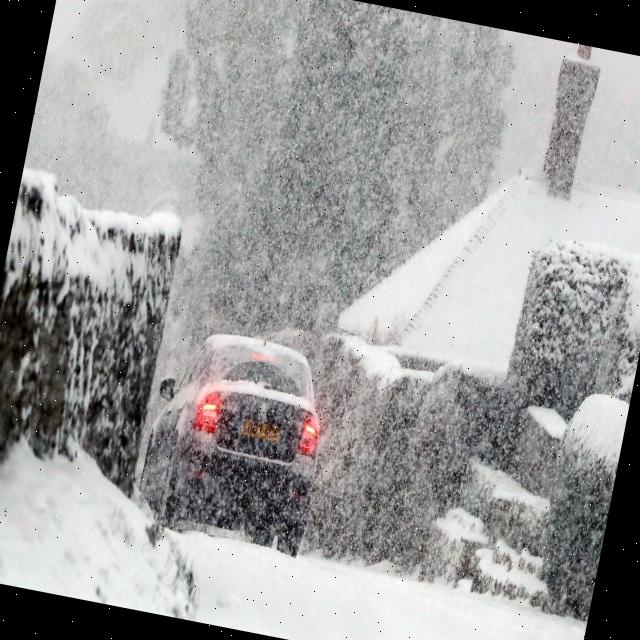car: (132, 315, 342, 562)
